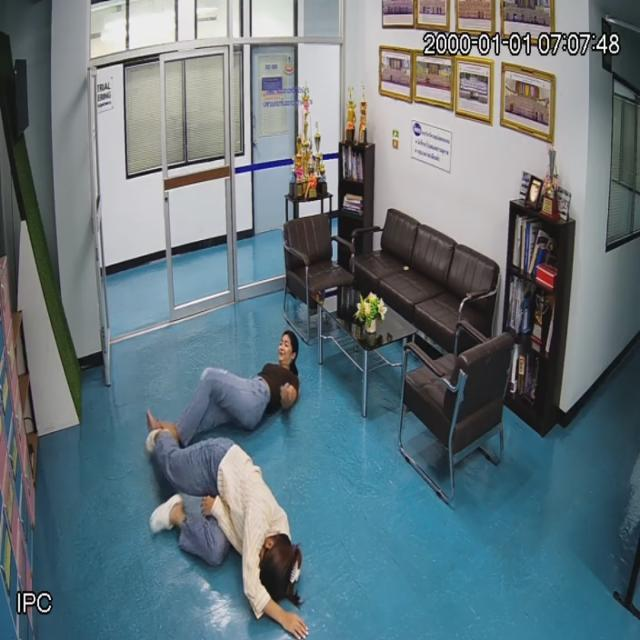fall: (148, 437, 302, 640), (159, 332, 300, 433)
